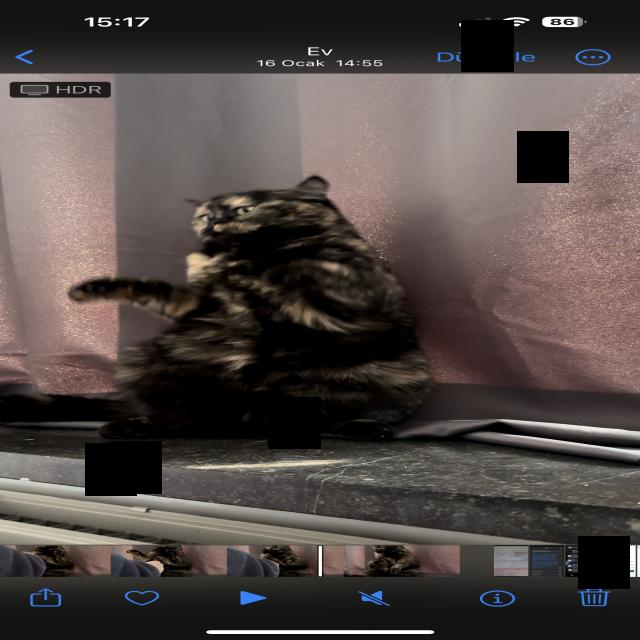authorized: (5, 174, 436, 440)
